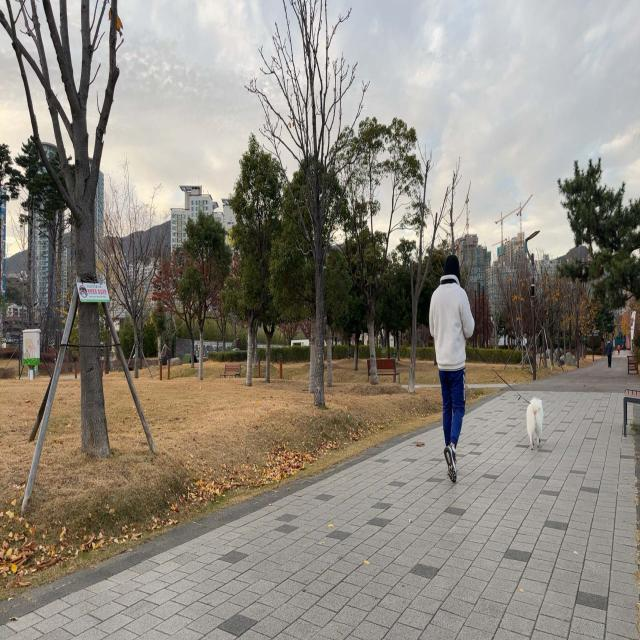Leashed_Dog: (445, 340, 544, 450)
